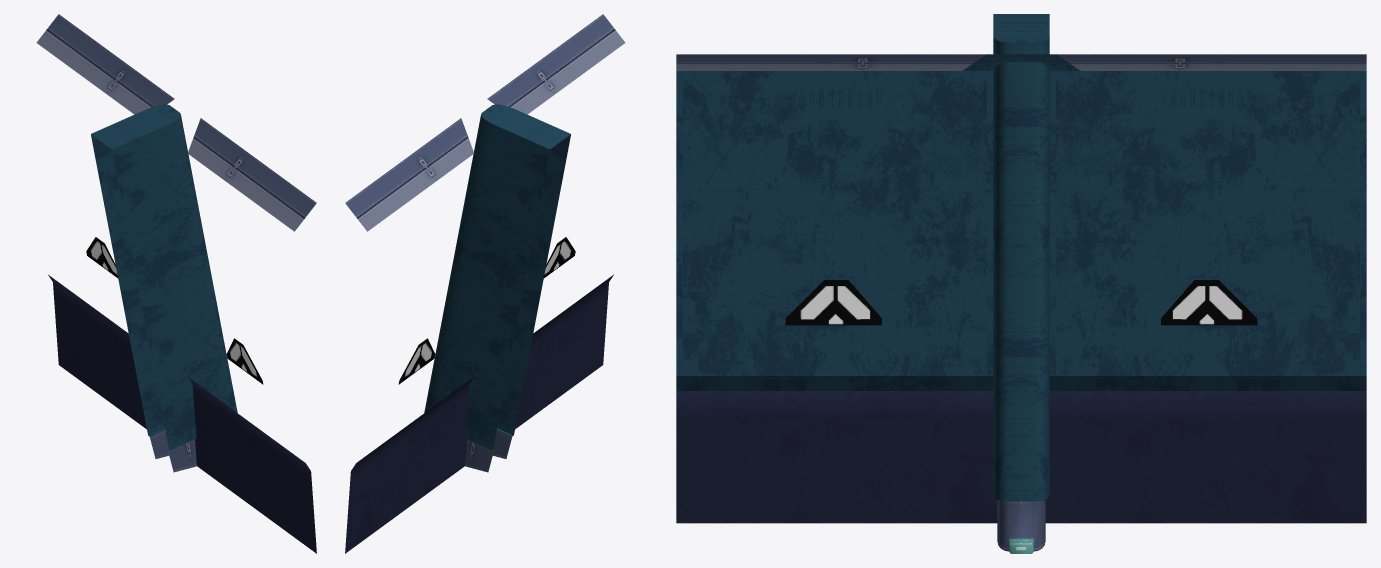
Rendered from WallAstra_Straight.gltf.
The picture shows the model from 3 angles, left to right: view 1: azimuth 30°, elevation 25°; view 2: azimuth 150°, elevation 25°; view 3: azimuth 270°, elevation 25°; orthographic projection. The views are drawn at different scales.
Parts seen in each view (by area): view 1: WallAstra_Straight; view 2: WallAstra_Straight; view 3: WallAstra_Straight.
Part boxes in pixels (box(x1,y1,x2,y2)): WallAstra_Straight: box(36, 14, 316, 553); WallAstra_Straight: box(345, 14, 625, 553); WallAstra_Straight: box(676, 14, 1366, 553).
Size of the model in its own units: 1.21 by 3.03 by 4.
5 materials, 5 textured.
